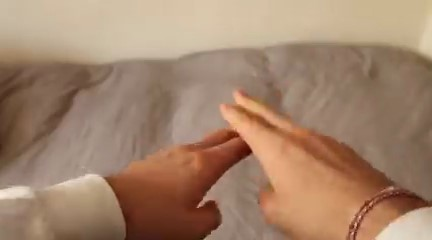F: (92, 77, 396, 240)
